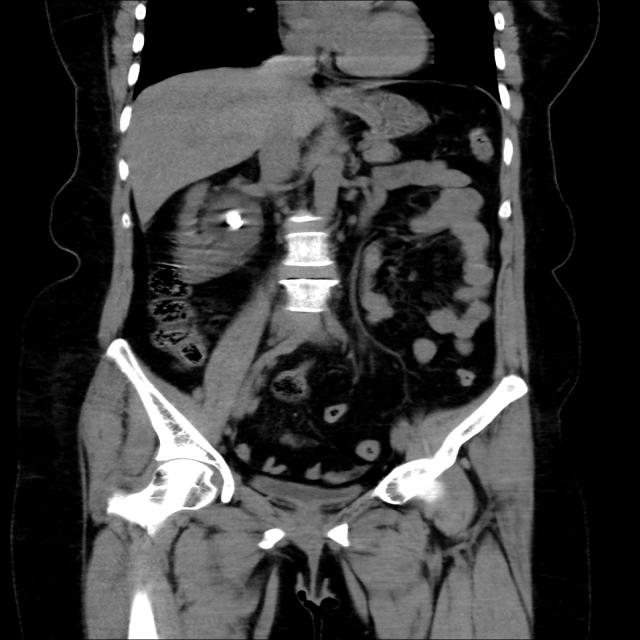kidneystone: (225, 210, 244, 230)
